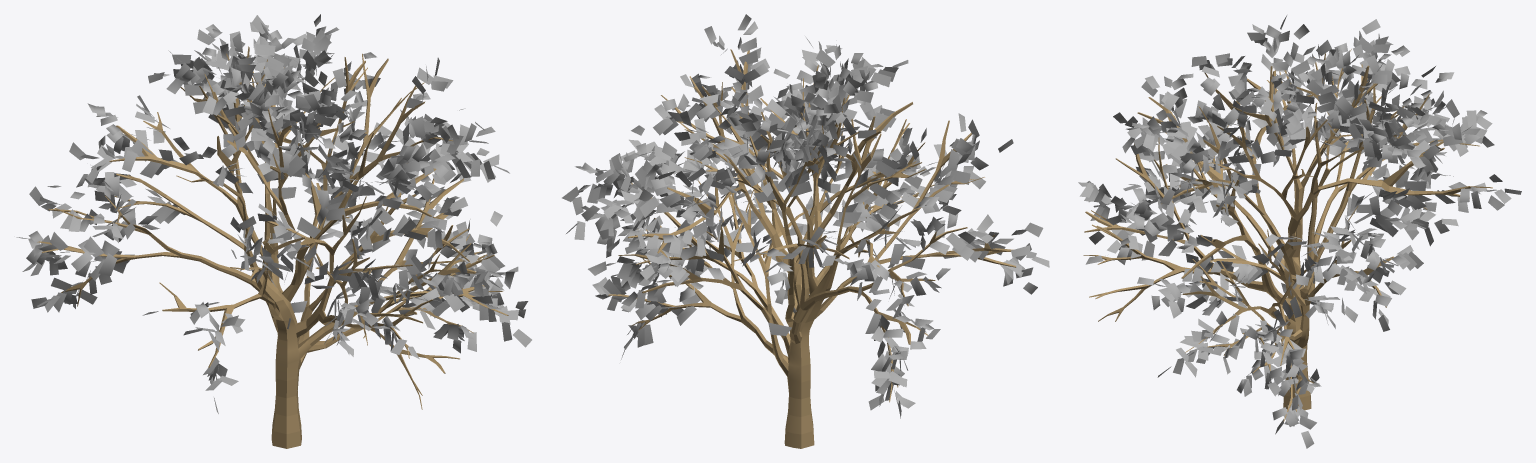
File: SmallOak_Fixed.fbx
The picture shows the model from 3 angles, left to right: view 1: azimuth 30°, elevation 25°; view 2: azimuth 150°, elevation 25°; view 3: azimuth 270°, elevation 25°; orthographic projection. The views are drawn at different scales.
Parts seen in each view (by area): view 1: Small_Oak_Leaves, Small_Oak_Trunk; view 2: Small_Oak_Leaves, Small_Oak_Trunk; view 3: Small_Oak_Leaves, Small_Oak_Trunk.
Boxes of the visible parts, <box> form: Small_Oak_Leaves: <box>16,14,531,413</box>; Small_Oak_Trunk: <box>37,46,508,448</box>; Small_Oak_Leaves: <box>562,14,1049,418</box>; Small_Oak_Trunk: <box>608,49,1016,448</box>; Small_Oak_Leaves: <box>1078,15,1521,448</box>; Small_Oak_Trunk: <box>1083,49,1492,421</box>.
Bounding box in the file's own units: 13.34 × 12.02 × 13.29.
